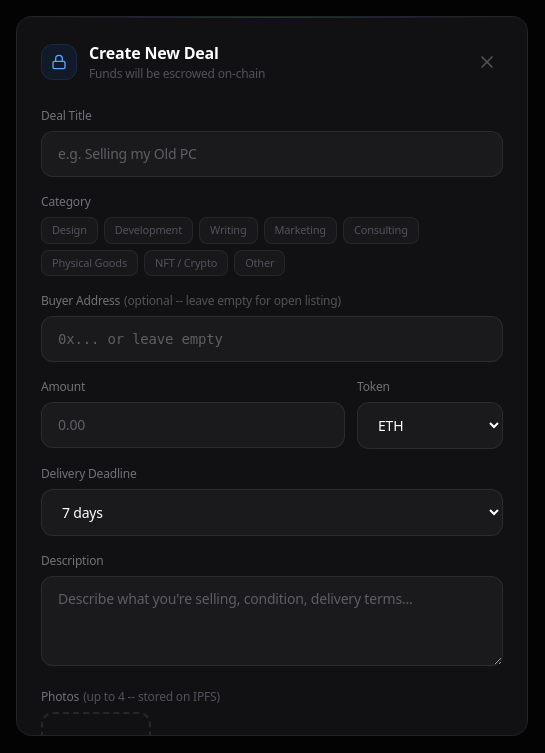
it: CreateDealModal › shows correct fee for small amounts
Type "0.5" into the number field with placeholder "0.00" at (193, 425), box 41,402 -> 345,448
(page scrolled)
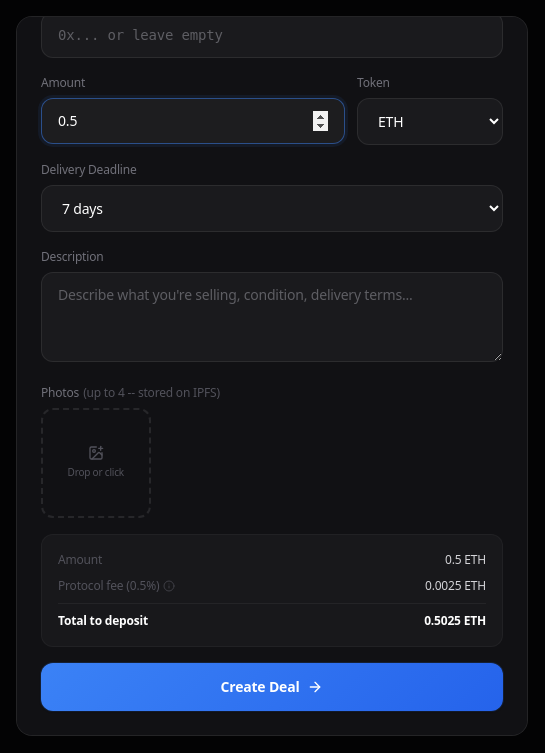
Result: the text "0.0025 ETH" is shown at 425,576 -> 486,594
